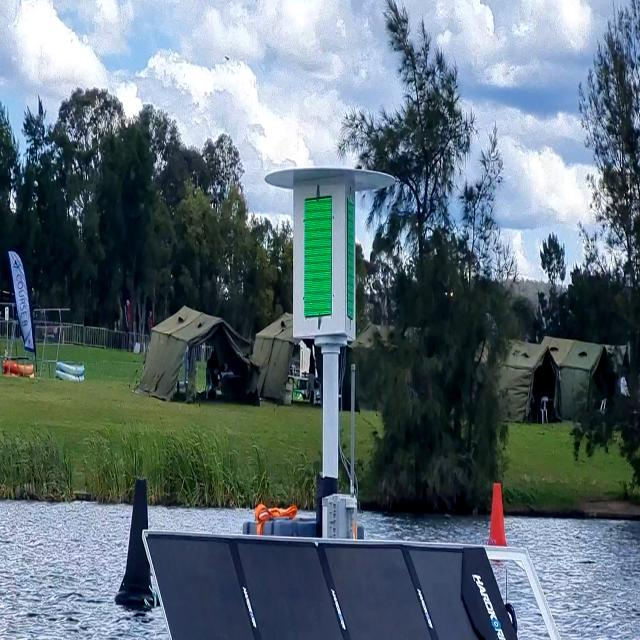led: (296, 185, 338, 330)
